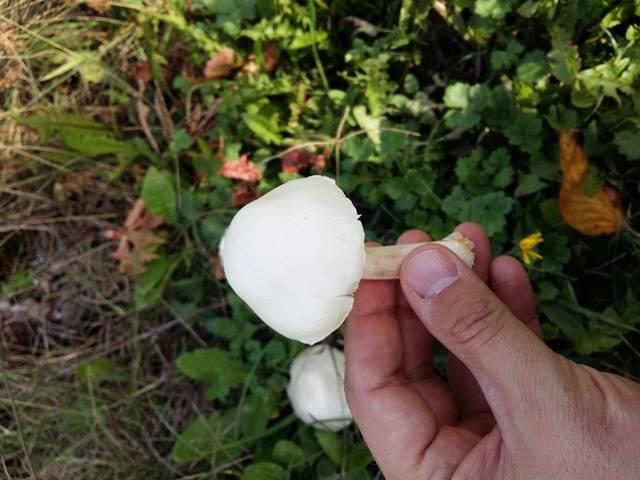poisonous_mushroom: (217, 173, 476, 346)
